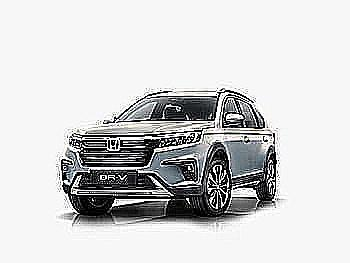Car hood: (74, 119, 217, 136)
Fender - -F-L-: (198, 116, 235, 203)
Front bumper: (56, 148, 208, 201)
Headlight - -L-: (155, 130, 202, 150)
Headlight - -R-: (68, 134, 86, 153)
Passenger-s door - -F-L-: (218, 86, 253, 197)
Passenger-s door - -R-L-: (240, 87, 271, 196)
Side bumper - -L-: (229, 170, 269, 199)
Side mirror - -L-: (223, 111, 245, 130)
